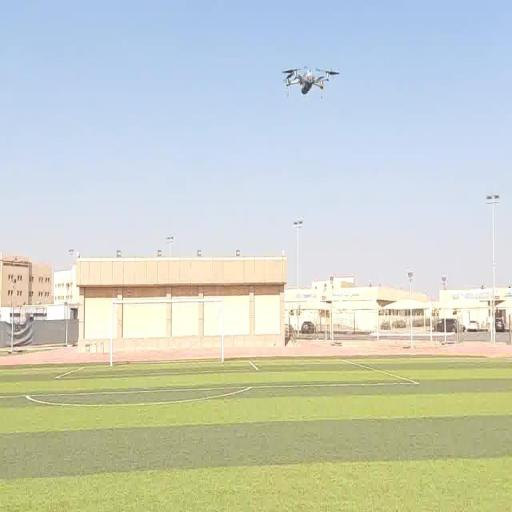drone: (281, 66, 340, 103)
